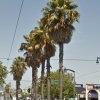Palm tree: (11, 1, 83, 77)
